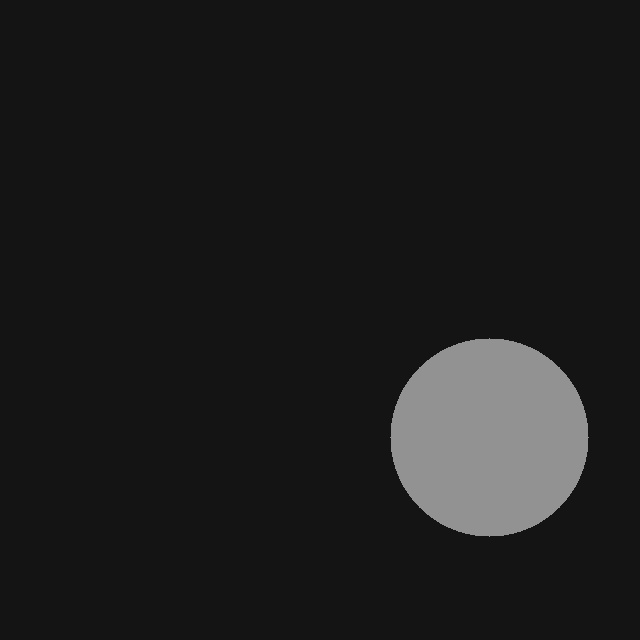circle: (390, 338, 588, 536)
